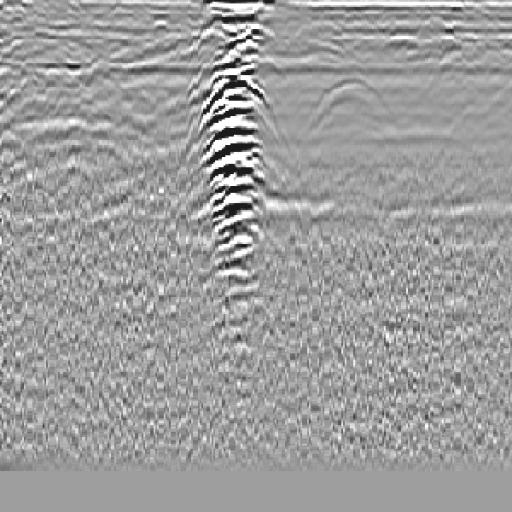metalic: (172, 24, 288, 349)
nonmetalic: (300, 65, 412, 161)
